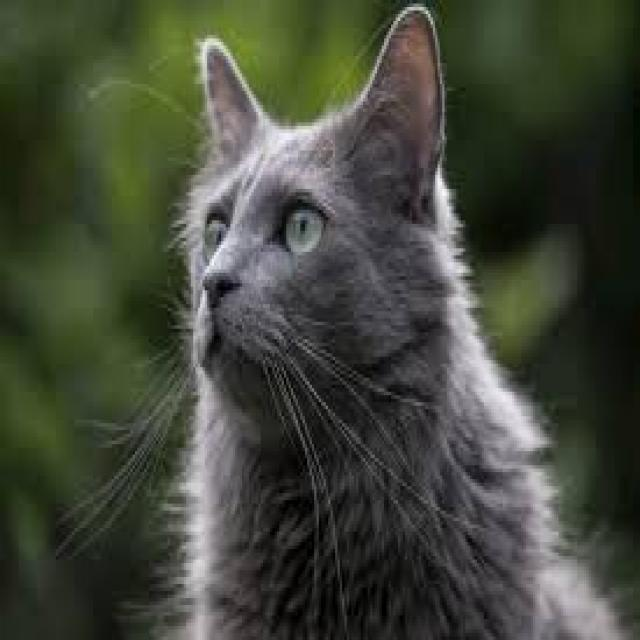Cat: (169, 1, 630, 640)
